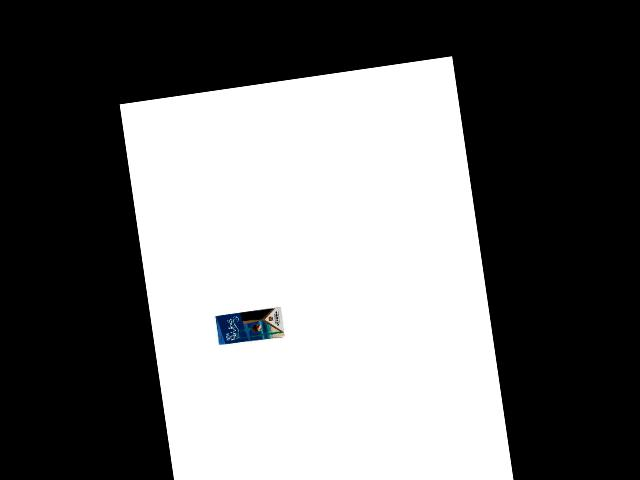chocolate: (213, 304, 286, 346)
